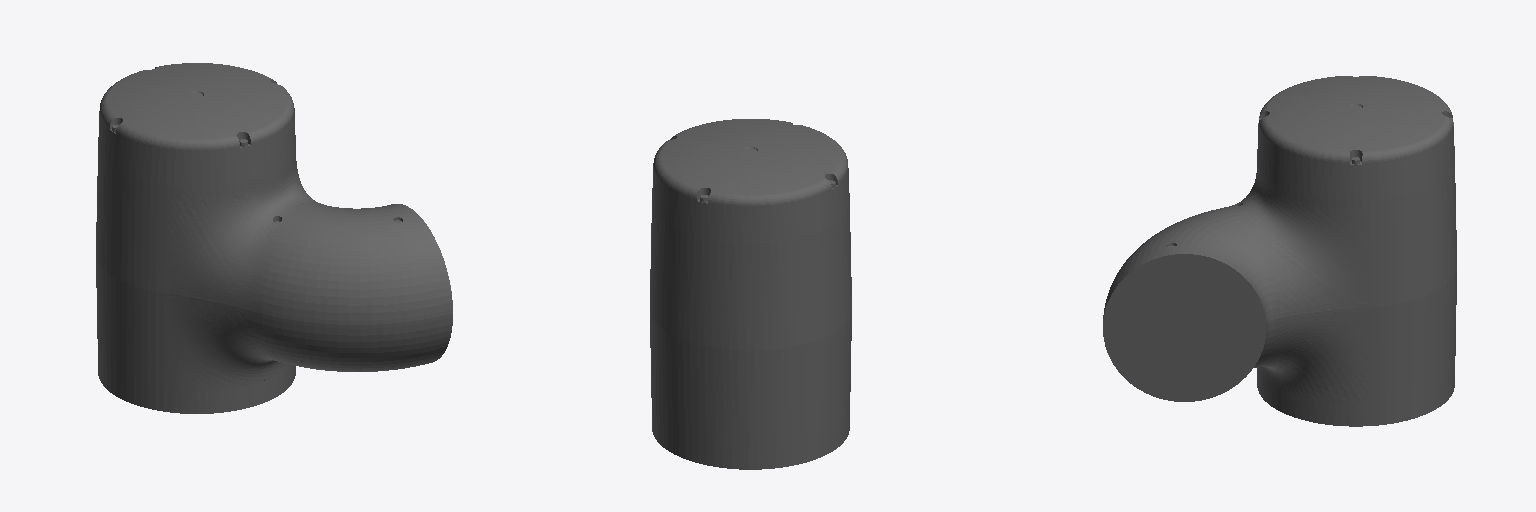
File: Joint_3.obj
3 renders of one model, left to right at view 1: azimuth 30°, elevation 25°; view 2: azimuth 150°, elevation 25°; view 3: azimuth 270°, elevation 25°, orthographic.
Parts seen in each view (by area): view 1: Solid1; view 2: Solid1; view 3: Solid1.
Part boxes in pixels (left/top/right/bottom): Solid1: left=96, top=63, right=452, bottom=413; Solid1: left=650, top=119, right=851, bottom=469; Solid1: left=1103, top=76, right=1456, bottom=426.
Bounding box in the file's own units: 0.161 × 0.197 × 0.2275.